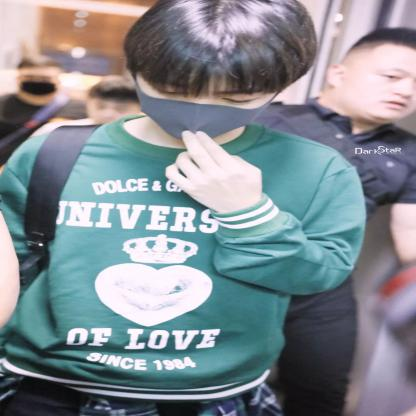Not_Wearing_Mask: (344, 62, 416, 121), (87, 98, 140, 126)
Wearing_Mask: (134, 78, 272, 142), (18, 73, 59, 95)
